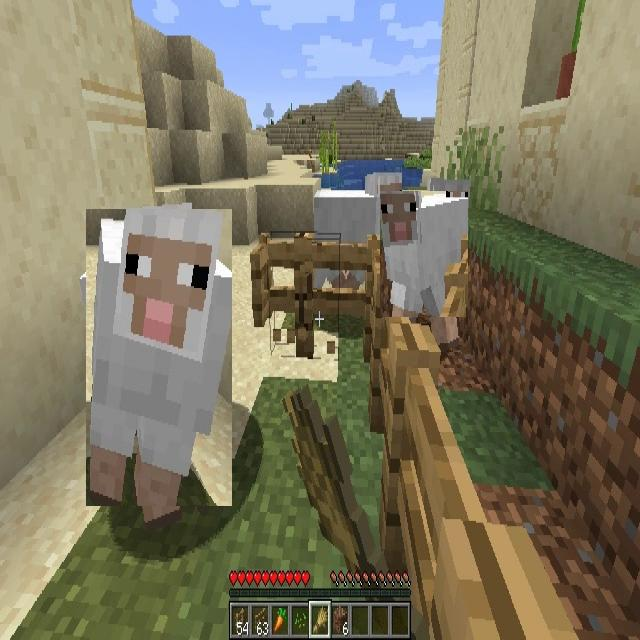sheep: (86, 209, 232, 506), (381, 191, 468, 317), (316, 172, 402, 273)
